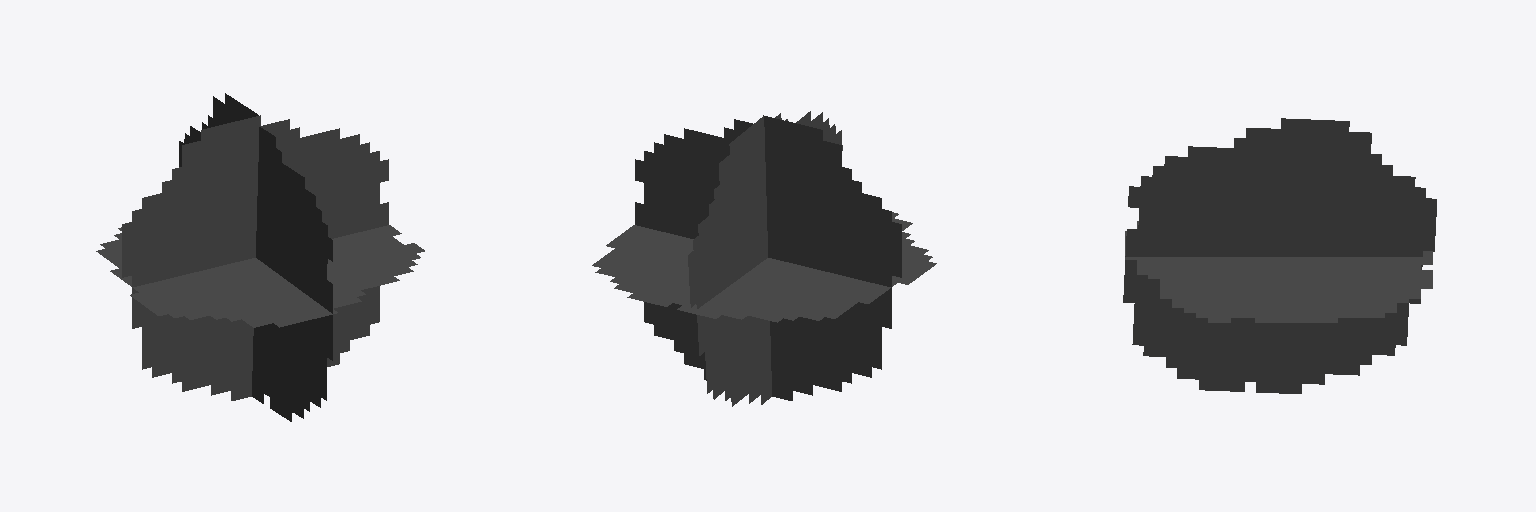
3 views of the same model, side by side, from view 1: azimuth 30°, elevation 25°; view 2: azimuth 150°, elevation 25°; view 3: azimuth 270°, elevation 25° (orthographic).
Visible parts, largest first — view 1: Plane; view 2: Plane; view 3: Plane.
Part boxes in pixels (x1,y1,x2,y2): Plane: (96,93,424,421); Plane: (592,111,936,406); Plane: (1123,118,1436,393).
Bounding box in the file's own units: 2 × 2.09 × 2.09.
Materials: 1 (1 with a texture image).